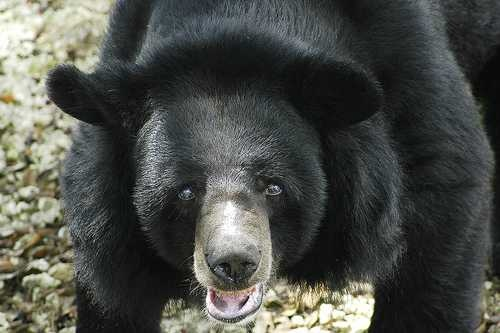bear: (165, 178, 293, 306), (275, 34, 403, 162), (44, 39, 172, 167)
